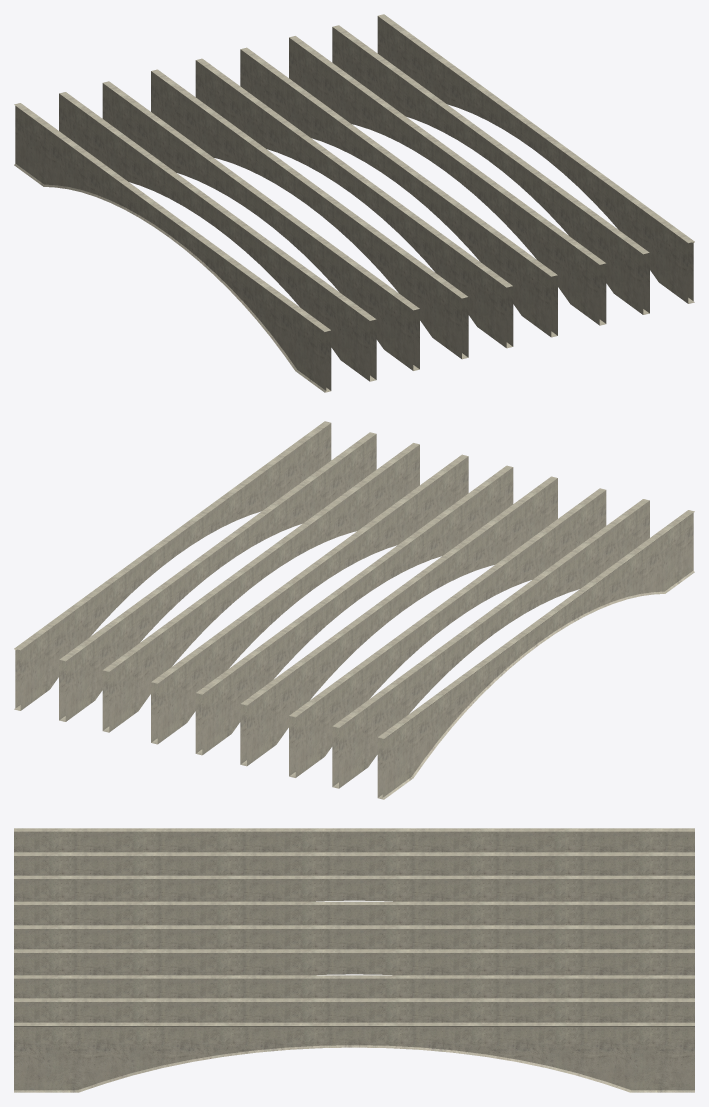
Rendered from BridgeBase6-4L-40M.FBX.
3 renders of one model, top to bottom at view 1: azimuth 30°, elevation 25°; view 2: azimuth 150°, elevation 25°; view 3: azimuth 270°, elevation 25°, orthographic. The views are drawn at different scales.
Visible parts, largest first — view 1: BridgeBase6-4L-40M; view 2: BridgeBase6-4L-40M; view 3: BridgeBase6-4L-40M.
Boxes of the visible parts, x1=… form: BridgeBase6-4L-40M: x1=14, y1=14, x2=694, y2=392; BridgeBase6-4L-40M: x1=14, y1=421, x2=694, y2=799; BridgeBase6-4L-40M: x1=14, y1=828, x2=694, y2=1092.
Size of the model in its own units: 28 by 4.4 by 40.73.
